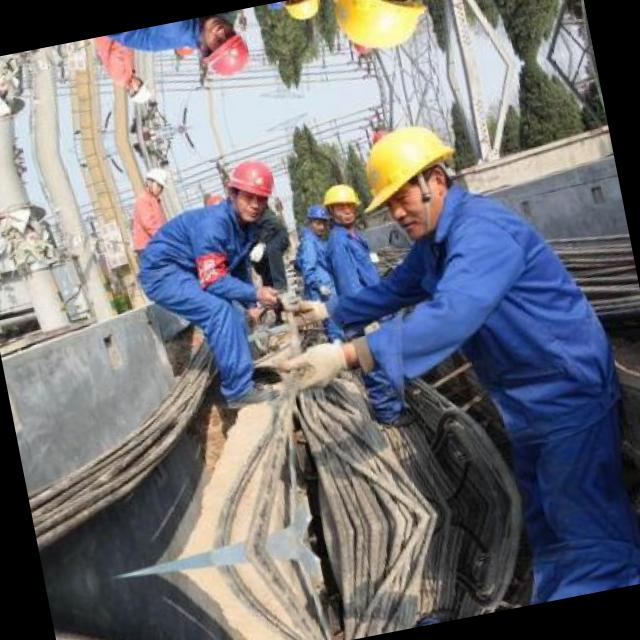helmet: (355, 110, 476, 241), (329, 0, 444, 65), (193, 11, 256, 83), (221, 153, 283, 225), (318, 178, 366, 231), (138, 160, 174, 202), (121, 70, 157, 112), (302, 198, 334, 238), (281, 0, 327, 26), (262, 0, 291, 16)
